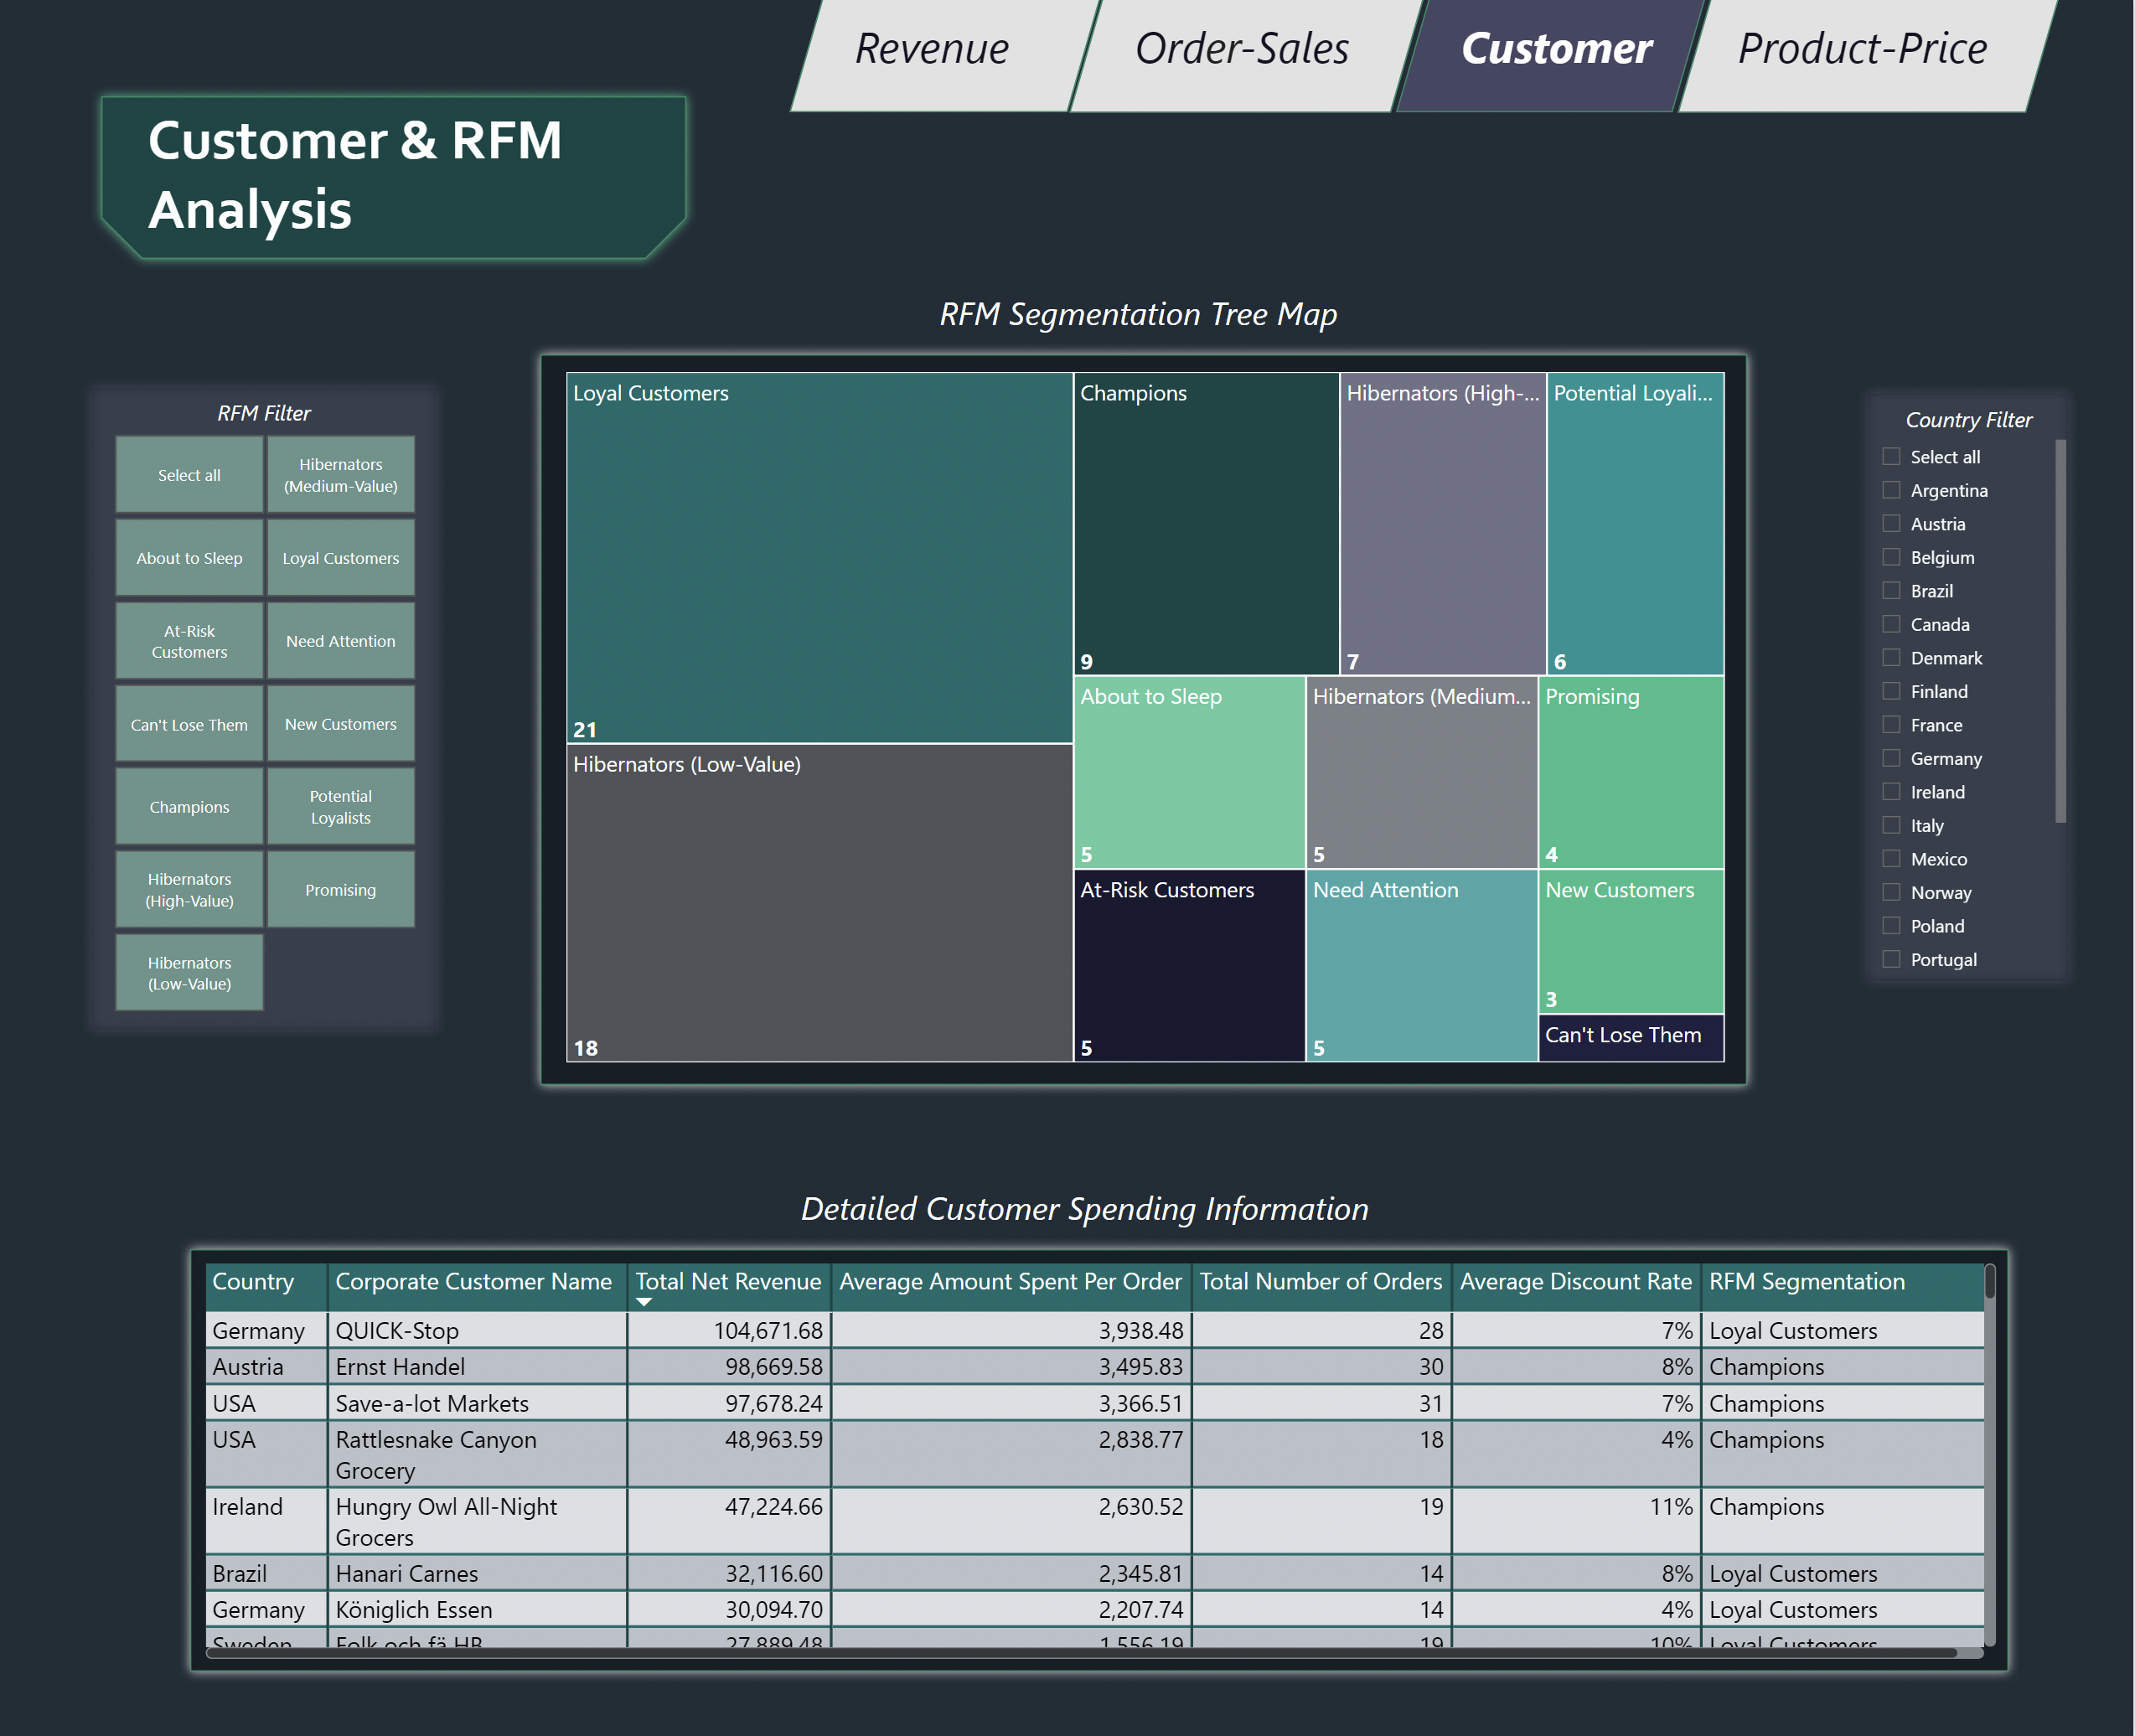

This screenshot's page, from the dashboard's own definition file:
{"tool":"powerbi","page":{"name":"3) Customer & RFM Analysis","canvas":[1600,1300],"ordinal":2},"visuals":[{"type":"shape","box":[142.5,926.2,1372.5,331.2],"z":0},{"type":"shape","box":[403.5,258.8,916.2,561.2],"z":1000},{"type":"shape","box":[1393.1,287.1,166.2,455],"z":2000},{"type":"shape","box":[69,283.8,273.8,495],"z":3000},{"type":"tableEx","fields":{"Values":["Customer Rev Data.country","Customer Rev Data.corporate_customer_name","Sum(Customer Rev Data.total_net_revenue)","Sum(Customer Rev Data.average_amount_spent_per_order)","Sum(Customer Rev Data.total_number_of_orders)","Sum(Customer Rev Data.average_discount_obtained)","Customer RFM Data.RFM Segmentation"]},"box":[156.2,940,1346.2,305],"z":4000},{"type":"slicer","title":"Country Filter","fields":{"Values":["Customer Rev Data.country"]},"box":[1399.4,303.4,155,428.8],"z":5000},{"type":"treemap","fields":{"Group":["Customer RFM Data.RFM Segmentation"],"Values":["CountNonNull(Customer RFM Data.RFM Segmentation)"]},"box":[426,275,873.8,525],"z":6000},{"type":"slicer","title":"RFM Filter","fields":{"Values":["Customer RFM Data.RFM Segmentation"]},"box":[69,298.8,273.8,465],"z":7000},{"type":"shape","box":[76.2,66.2,452.5,137.5],"z":8000},{"type":"textbox","box":[113.8,75,398.8,113.8],"z":9000},{"type":"shape","box":[806.7,0,265,86.7],"z":10000},{"type":"textbox","box":[850,10,191.2,65],"z":11000},{"type":"shape","box":[1050,0,231.2,86.2],"z":12000},{"type":"textbox","box":[1093.8,10,166.2,65],"z":13000},{"type":"shape","box":[1260,0,285,86.7],"z":14000},{"type":"textbox","box":[1300,10,210,65],"z":15000},{"type":"shape","box":[597.5,0,232.5,86.2],"z":16000},{"type":"textbox","box":[641.7,10,145,63.3],"z":17000},{"type":"textbox","box":[586.2,881.2,463.8,45],"z":18000},{"type":"textbox","box":[626,213.8,463.8,45],"z":19000}]}

Visuals, with their boxes in screenshot pixels (x1, y1, x2, y2), scaled from the page's 1600x1300 canvas onto the 2135x1736 screenshot:
shape: [190, 1237, 2022, 1679]
shape: [539, 345, 1761, 1095]
shape: [1859, 384, 2081, 991]
shape: [92, 379, 457, 1040]
tableEx - Customer Rev Data.country x Customer Rev Data.corporate_customer_name: [209, 1255, 2005, 1662]
"Country Filter" slicer: [1868, 406, 2074, 978]
treemap - Customer RFM Data.RFM Segmentation x CountNonNull(Customer RFM Data.RFM Segmentation): [568, 367, 1734, 1068]
"RFM Filter" slicer: [92, 399, 457, 1020]
shape: [101, 89, 706, 272]
textbox: [152, 101, 684, 252]
shape: [1077, 0, 1430, 116]
textbox: [1135, 13, 1389, 101]
shape: [1401, 0, 1709, 115]
textbox: [1460, 13, 1682, 101]
shape: [1682, 0, 2061, 116]
textbox: [1734, 13, 2015, 101]
shape: [798, 0, 1108, 115]
textbox: [856, 13, 1050, 98]
textbox: [783, 1176, 1401, 1237]
textbox: [835, 286, 1455, 345]
